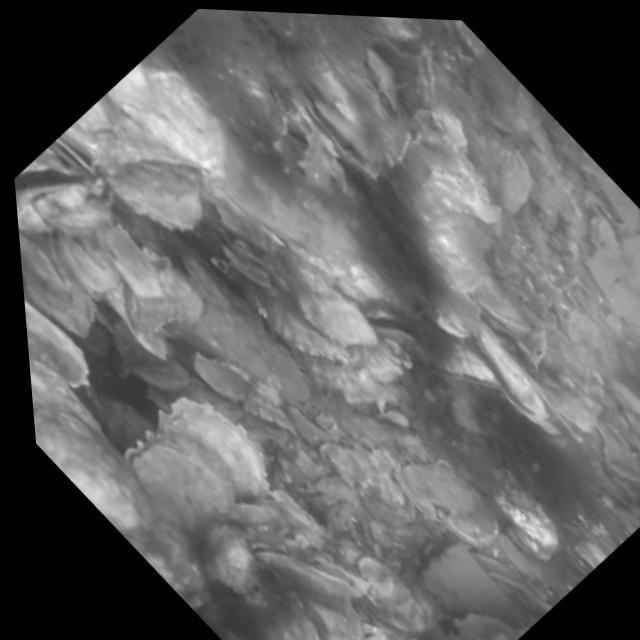Oyster-Closed: (124, 433, 240, 531), (160, 400, 269, 499), (467, 320, 550, 427), (408, 109, 488, 211), (251, 538, 366, 598), (353, 552, 426, 640), (357, 48, 399, 116), (443, 340, 501, 389), (227, 242, 270, 289), (524, 278, 565, 327), (54, 139, 95, 181), (76, 101, 113, 138), (575, 544, 608, 571)
Oyster-Indeterminate: (29, 360, 210, 607), (223, 268, 341, 358), (124, 70, 223, 169), (19, 227, 94, 336), (401, 465, 498, 540), (103, 167, 201, 228), (275, 571, 360, 640), (113, 318, 188, 386), (491, 468, 555, 543), (96, 138, 206, 180), (103, 225, 163, 297), (300, 291, 377, 346), (466, 52, 524, 117), (471, 280, 532, 340), (204, 527, 255, 591), (186, 256, 230, 311), (501, 147, 534, 209), (592, 216, 621, 257)
Oyster-Open: (298, 85, 391, 178), (14, 156, 104, 234), (274, 119, 345, 191), (247, 587, 318, 640), (364, 306, 419, 341)
